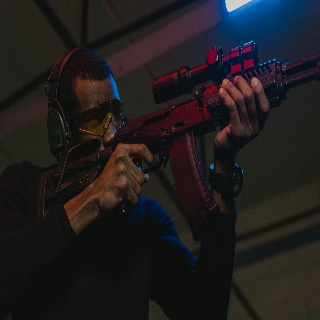rifle: (37, 40, 320, 240)
